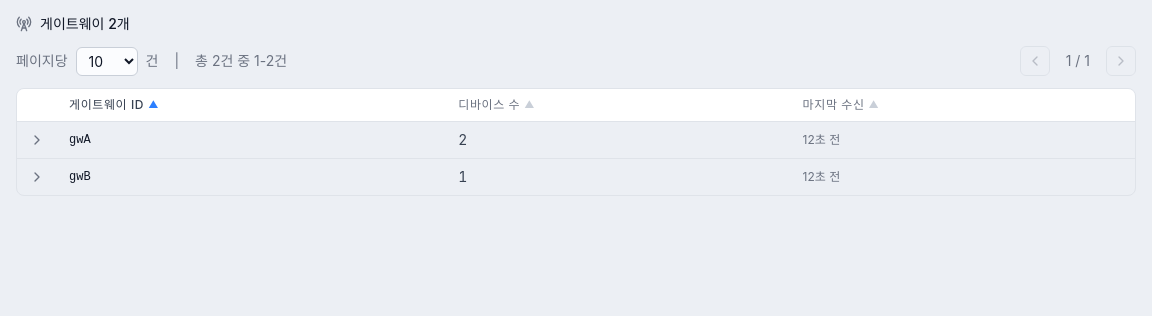
Scenario: ChirpstackGatewaysTab (게이트웨이, 디바이스) 쌍 보존 › 채널 컬럼은 게이트웨이 IF 채널로 표기되고 주파수와 분리되어 있다
Check: the text "gwA" is shown, box x1=57 y1=122 x2=446 y2=158
Click the button named "디바이스 목록 펼치기" next to "gwA". click: (37, 140)
box: x1=29 y1=132 x2=45 y2=148
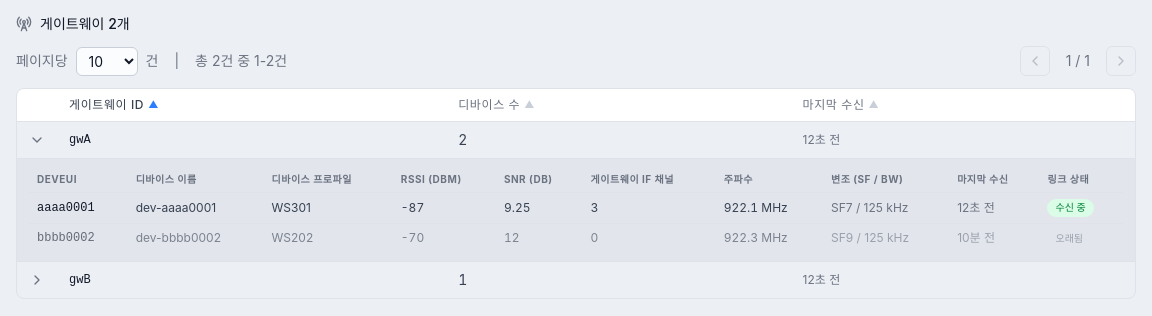
Check: the column heading "게이트웨이 IF 채널" is shown, box x1=583 y1=167 x2=716 y2=193
Check: the column heading "주파수" is shown, box x1=716 y1=167 x2=823 y2=193
Check: the text "922.1 MHz" is shown, box x1=716 y1=193 x2=823 y2=223
